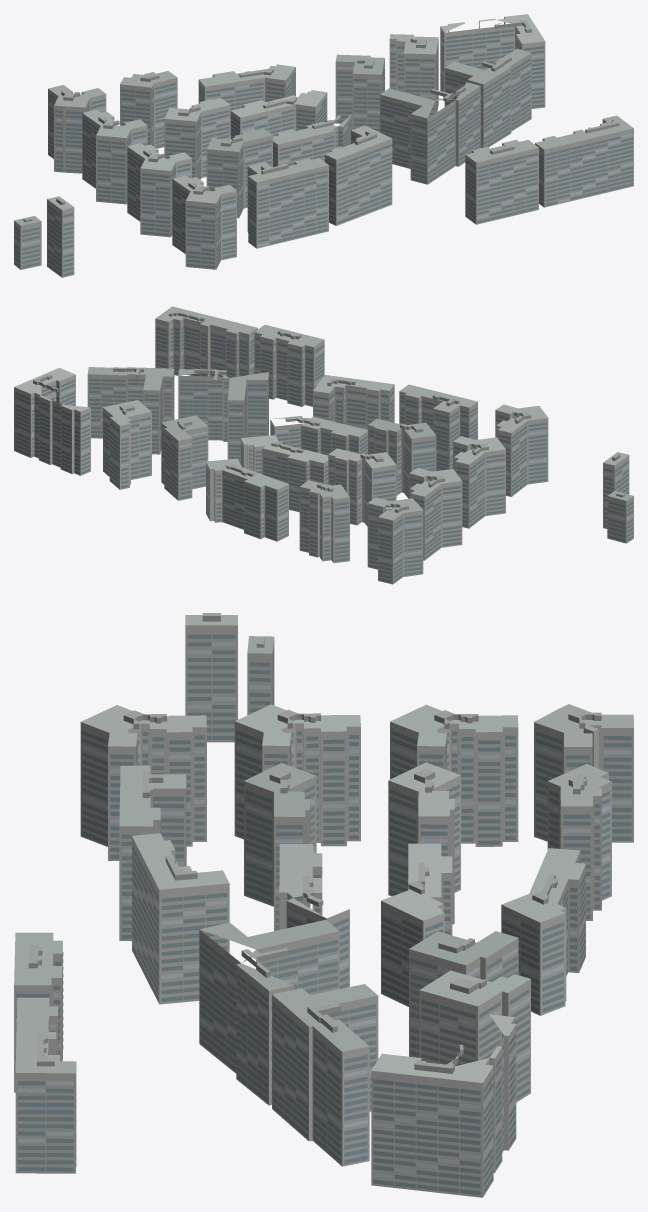
File: apt-a10024426.glb
3 views of the same model, one above another, from view 1: azimuth 30°, elevation 25°; view 2: azimuth 150°, elevation 25°; view 3: azimuth 270°, elevation 25° (orthographic). The views are drawn at different scales.
Parts seen in each view (by area): view 1: apt-a10024426; view 2: apt-a10024426; view 3: apt-a10024426.
Part boxes in pixels (bbox=[...]): apt-a10024426: bbox=[14, 14, 633, 277]; apt-a10024426: bbox=[14, 306, 633, 584]; apt-a10024426: bbox=[14, 613, 633, 1197].
Bounding box in the file's own units: 416 × 49 × 225.
